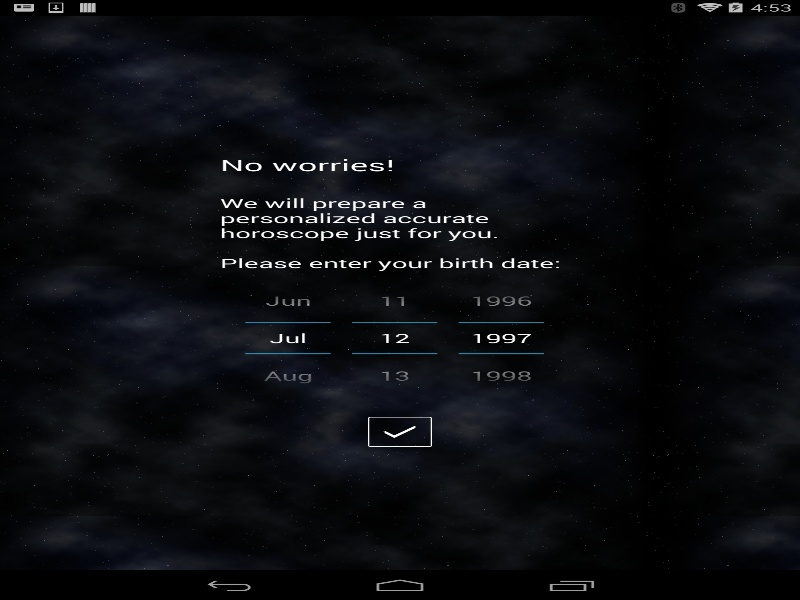Button: (458, 281, 544, 323), (245, 281, 330, 323), (352, 281, 437, 323), (458, 353, 544, 394), (245, 353, 330, 394), (352, 353, 437, 394), (368, 416, 432, 446)
Input: (458, 323, 544, 353), (245, 323, 330, 353), (352, 323, 437, 353)
